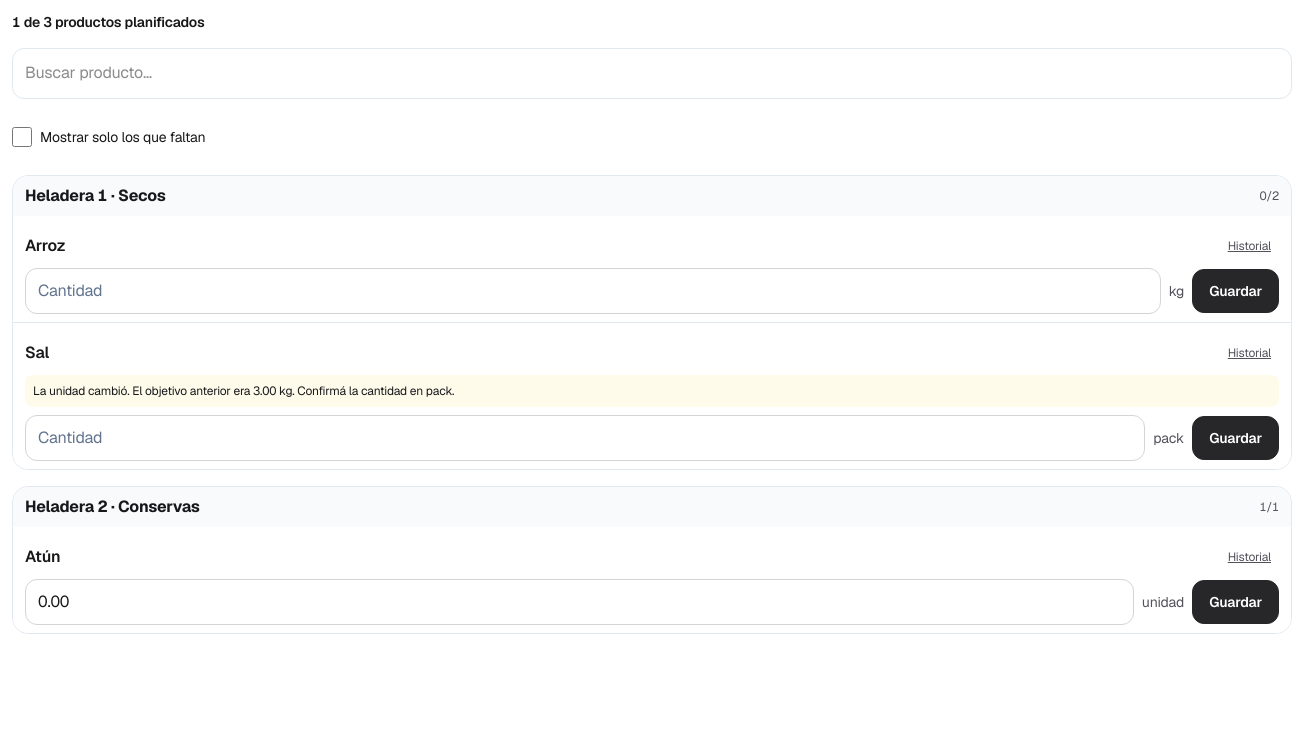
Scenario: saves the entered target and retains unsaved input on failure
In the number field labelled "kg": [593, 291] box [25,268,1161,314], type "12"
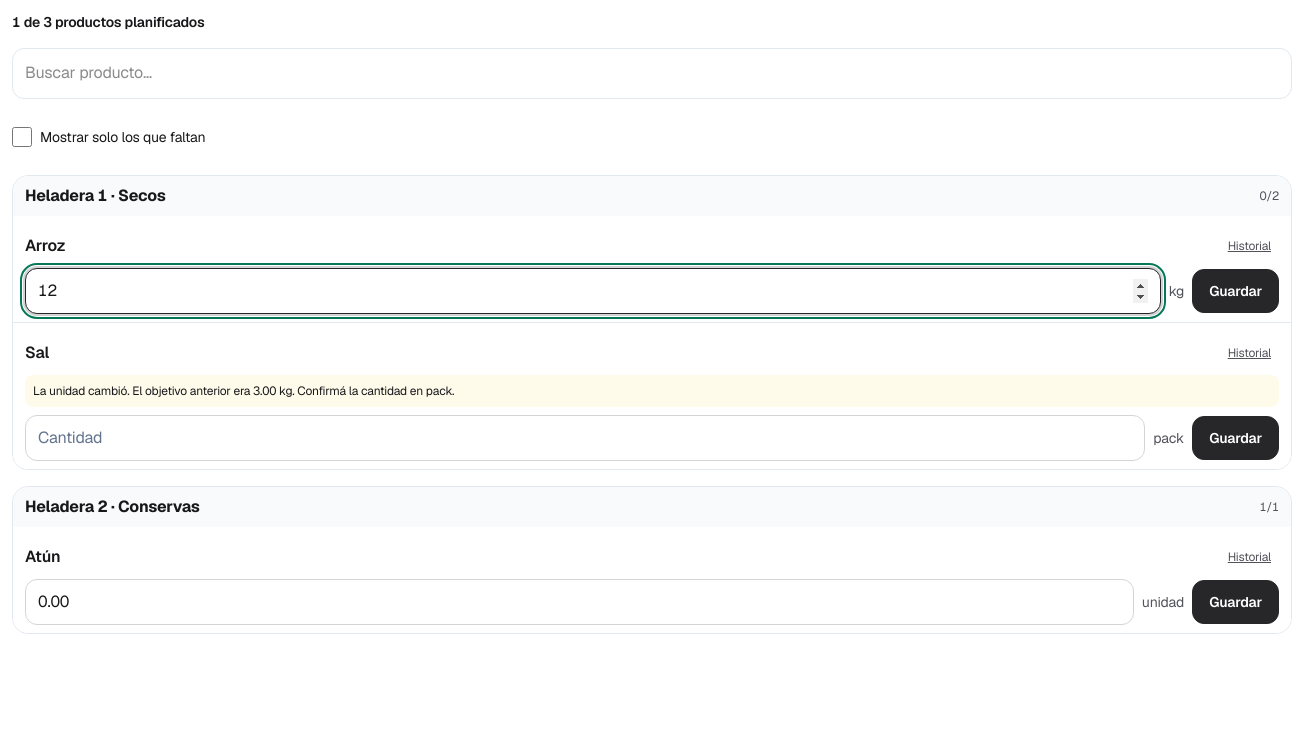
Click the 1st button "Guardar": [1236, 291] box [1192,269,1279,313]
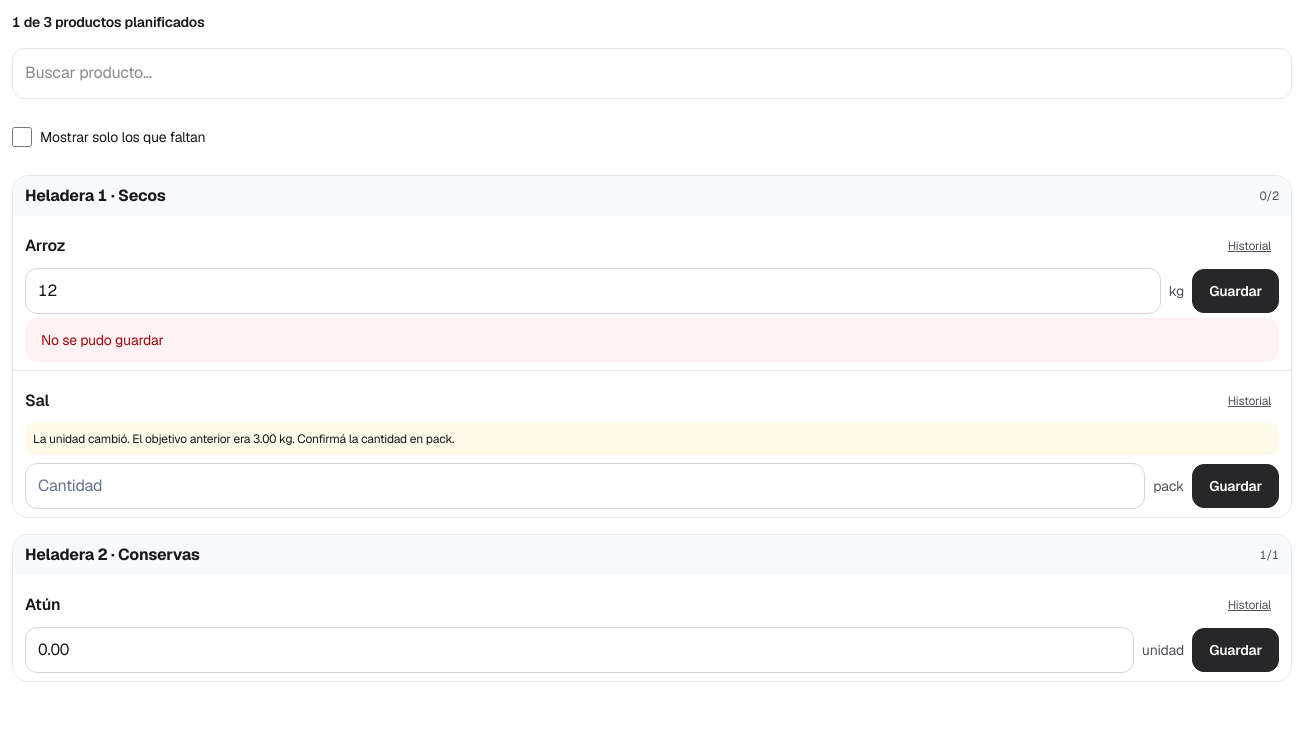
expect the text "No se pudo guardar" is shown: met, box [25,318,1279,362]
Click the 1st button "Guardar": [1236, 291] box [1192,269,1279,313]
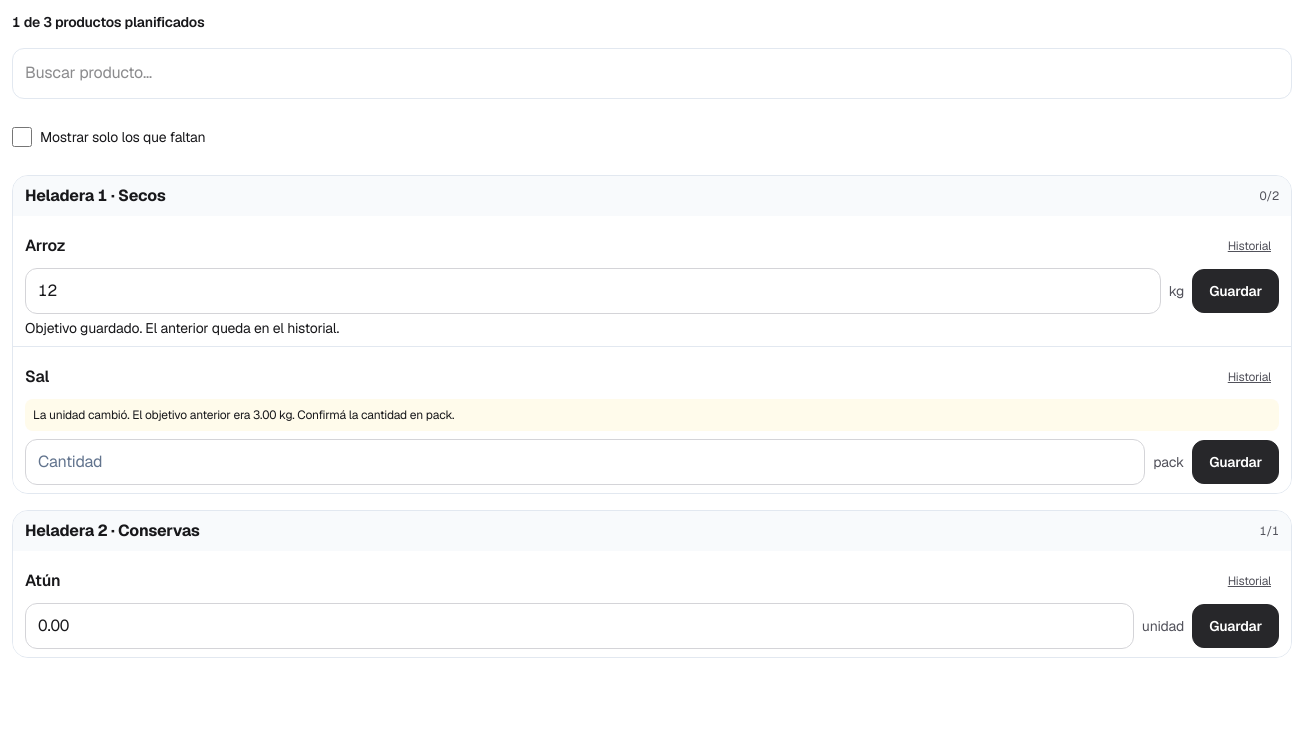
expect the message "Objetivo guardado. El anterior queda en el historial." is shown: met, box [25,319,339,337]
